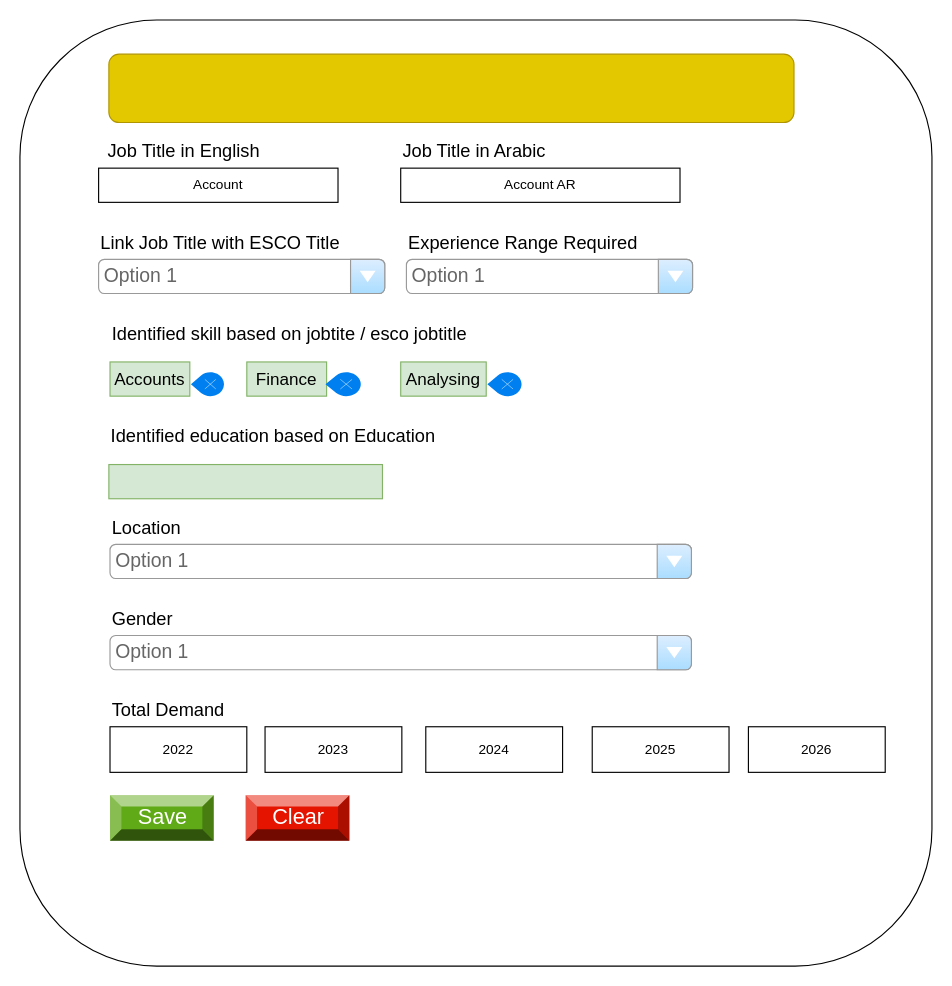
Some shapes in this 952 by 986 pixel diagram are drawn without their labels. Here are the shapes that lost their labels. From the top down, the centre of each, then its label:
At (451,88): "Labor Forecast Data Entry".
At (245,481): "Bachelor - Finance - Accounting".
